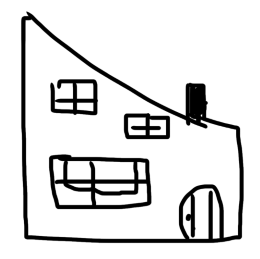big_house: (2, 1, 260, 259)
chimney: (179, 78, 215, 132)
closed_window: (47, 145, 162, 214), (47, 76, 102, 122), (121, 106, 174, 150)
door: (171, 175, 230, 245)
single_line_roof: (17, 8, 242, 139)
wall: (6, 120, 248, 252)
